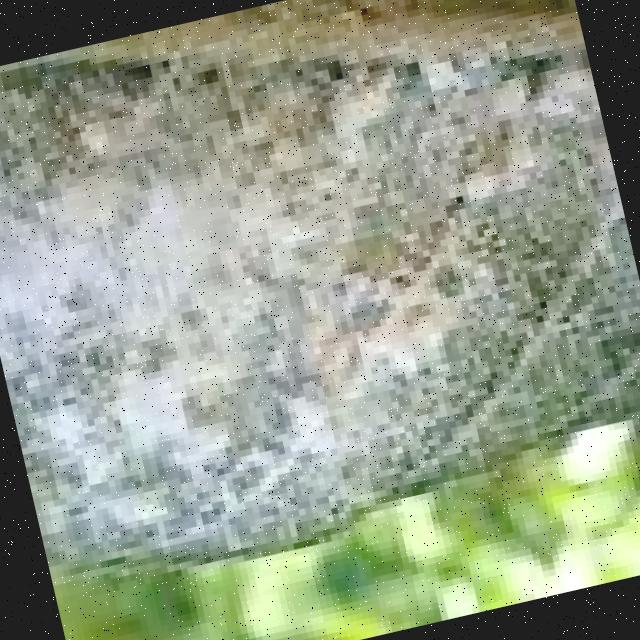whitefly: (0, 39, 601, 567)
